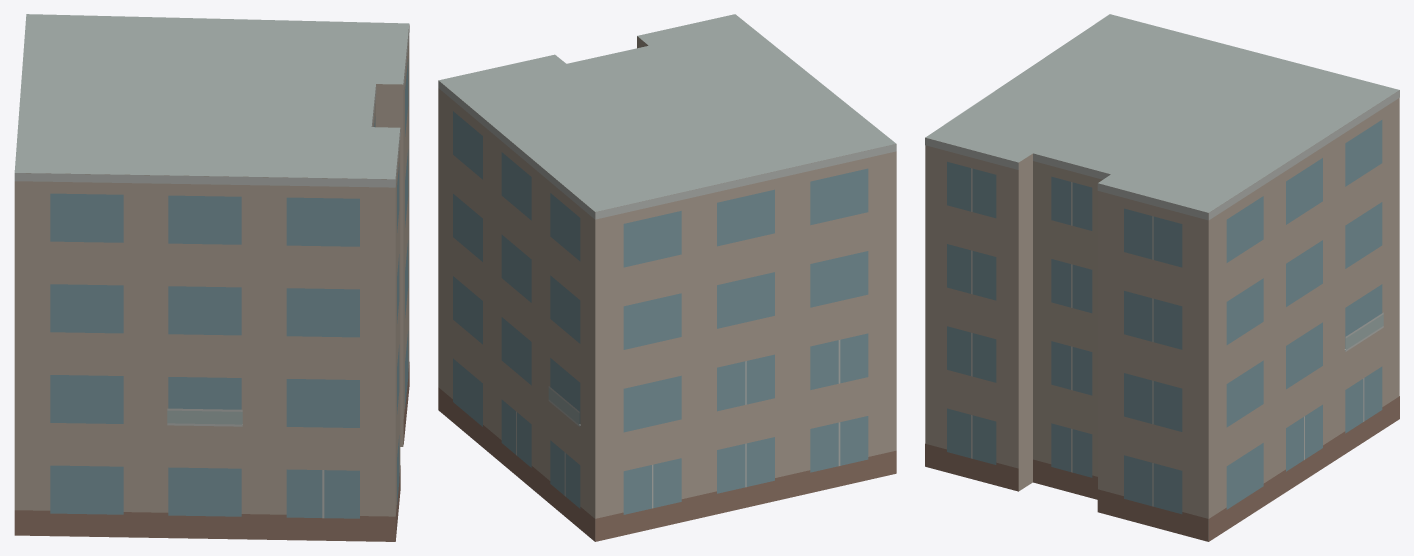
The model's file is survey-upis-32872421.glb.
3 views of the same model, side by side, from view 1: azimuth 30°, elevation 25°; view 2: azimuth 150°, elevation 25°; view 3: azimuth 270°, elevation 25° (orthographic). The views are drawn at different scales.
Visible parts, largest first — view 1: survey-upis-32872421.tmp; view 2: survey-upis-32872421.tmp; view 3: survey-upis-32872421.tmp.
Part boxes in pixels (x1,y1,x2,y2): survey-upis-32872421.tmp: (14, 14, 409, 541); survey-upis-32872421.tmp: (438, 14, 896, 541); survey-upis-32872421.tmp: (925, 14, 1399, 541).
Size of the model in its own units: 13.75 by 10.6 by 13.87.
